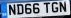character: (8, 3, 16, 15), (24, 2, 32, 14), (32, 2, 40, 14), (58, 1, 66, 12), (17, 3, 24, 15), (51, 1, 58, 13), (24, 3, 31, 14), (43, 2, 50, 13)
